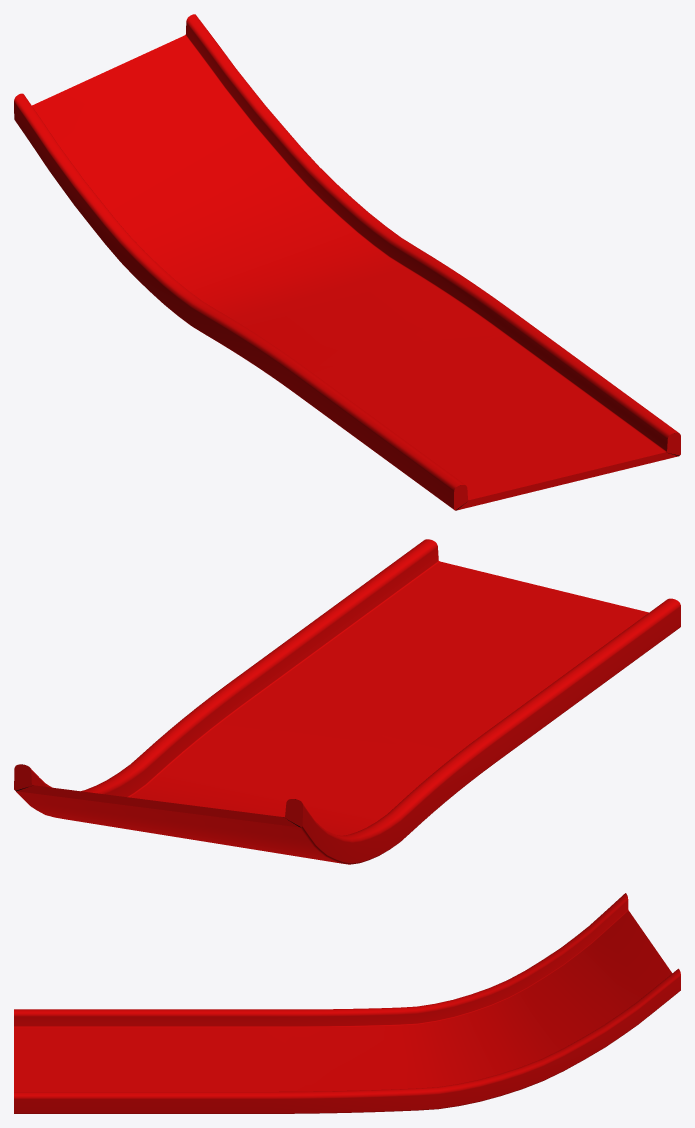
File: THE LAST FUCKING TRACK PIECE.fbx
The picture shows the model from 3 angles, top to bottom: view 1: azimuth 30°, elevation 25°; view 2: azimuth 150°, elevation 25°; view 3: azimuth 270°, elevation 25°; orthographic projection. The views are drawn at different scales.
Visible parts, largest first — view 1: polySurface10; view 2: polySurface10; view 3: polySurface10.
Boxes of the visible parts, x1=… form: polySurface10: x1=14, y1=14, x2=680, y2=510; polySurface10: x1=14, y1=539, x2=680, y2=864; polySurface10: x1=14, y1=893, x2=680, y2=1113.
Bounding box in the file's own units: 980 × 502 × 2547.
